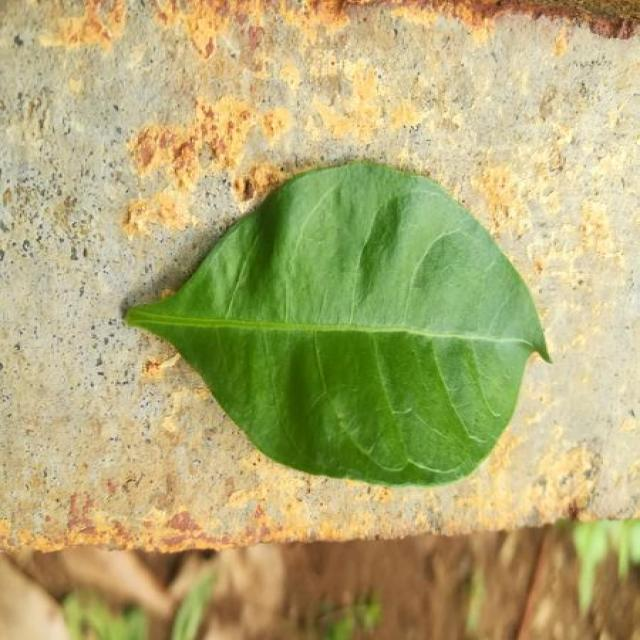henna: (127, 162, 550, 484)
